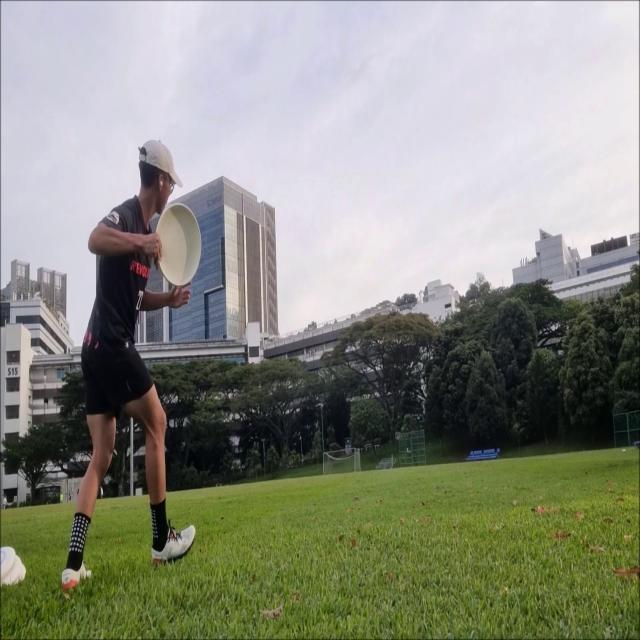disc: (154, 202, 202, 287)
